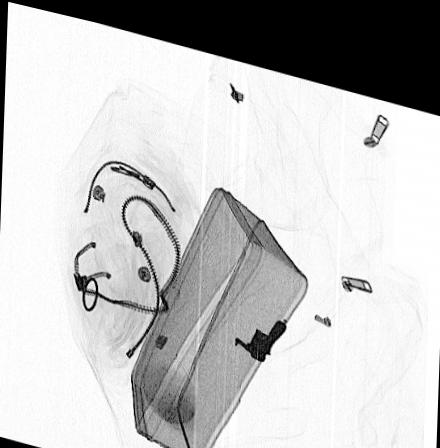Gun: (234, 305, 285, 348)
